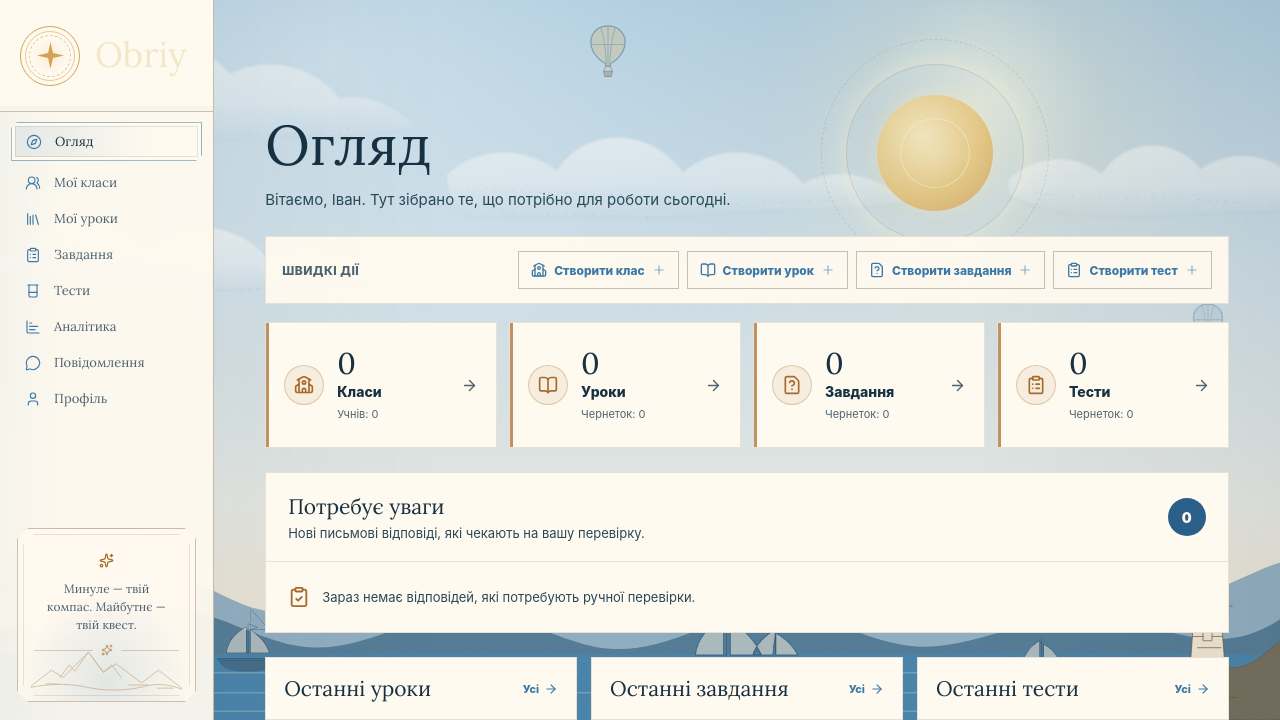
Test: AppRouter auth boundaries › renders the teacher menu and opens its placeholder routes
What coordinates should you click on to do the following:
click the link "Мої уроки"
I would click on:
 (72, 218)
Its box is left=25, top=210, right=118, bottom=227.
(page scrolled)
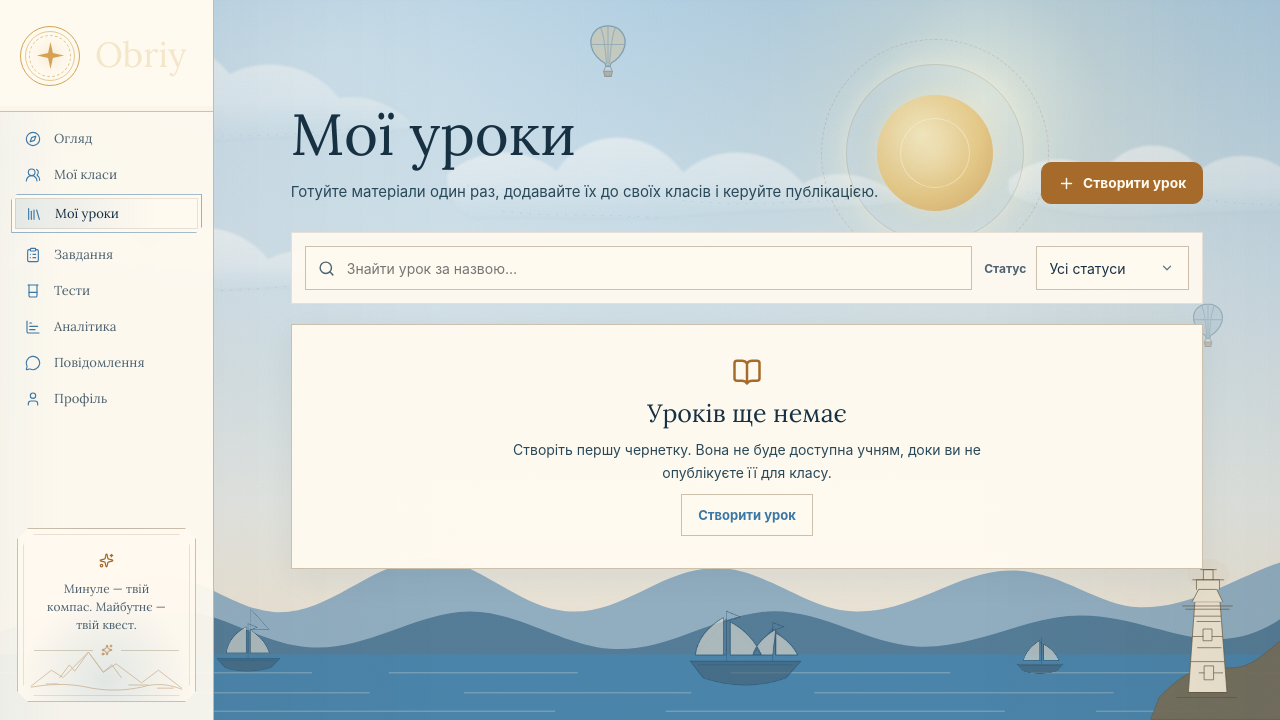
Expected: the text with test id "current-location" reads "/app/teacher/lessons", left=0, top=700, right=160, bottom=719
Result: the heading "Мої уроки" is shown at left=291, top=97, right=576, bottom=171
